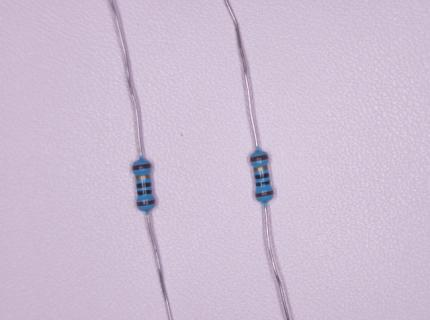Black band: (255, 173, 270, 180), (256, 180, 270, 187), (136, 182, 152, 188), (137, 190, 152, 195)
Brown band: (132, 163, 151, 171), (137, 200, 156, 207), (250, 155, 269, 162), (255, 191, 274, 198)
Gold band: (253, 166, 268, 172), (136, 175, 151, 180)
